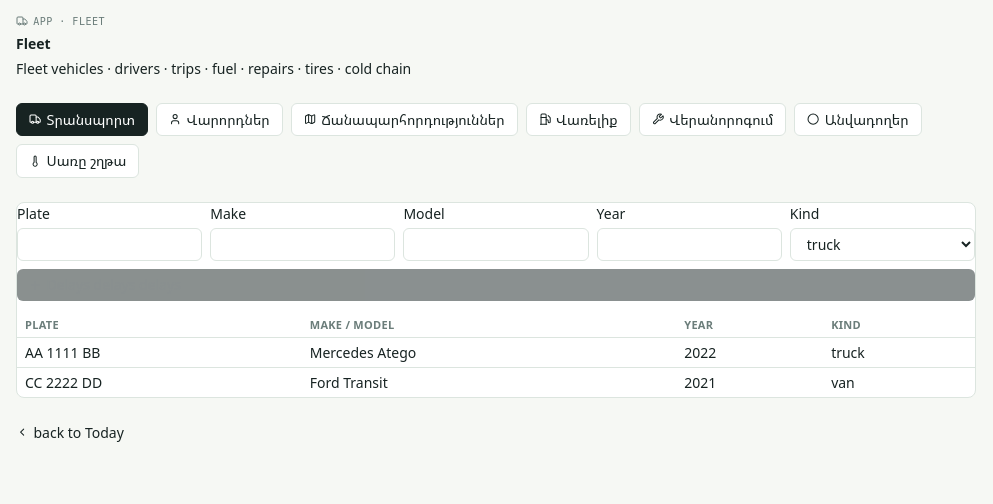
Scenario: Fleet — tab switching › clicking the repairs tab reveals the fleet-repairs-panel panel
The image size is (993, 504).
Click the tab with test id "fleet-tab-repairs". click: (712, 119)
box: top-left (639, 102), bottom-right (786, 136)
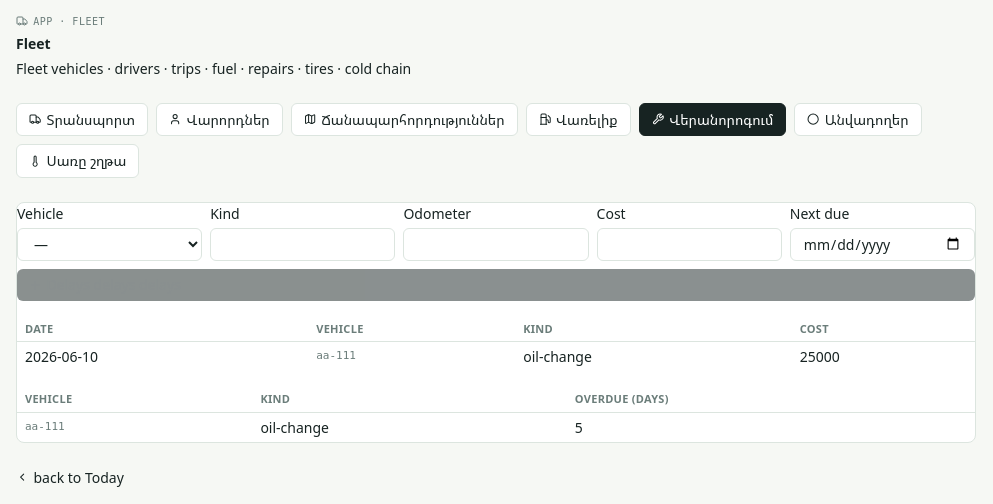
Expected: the element with test id "fleet-repairs-panel" is shown, top-left (16, 202), bottom-right (976, 442)
